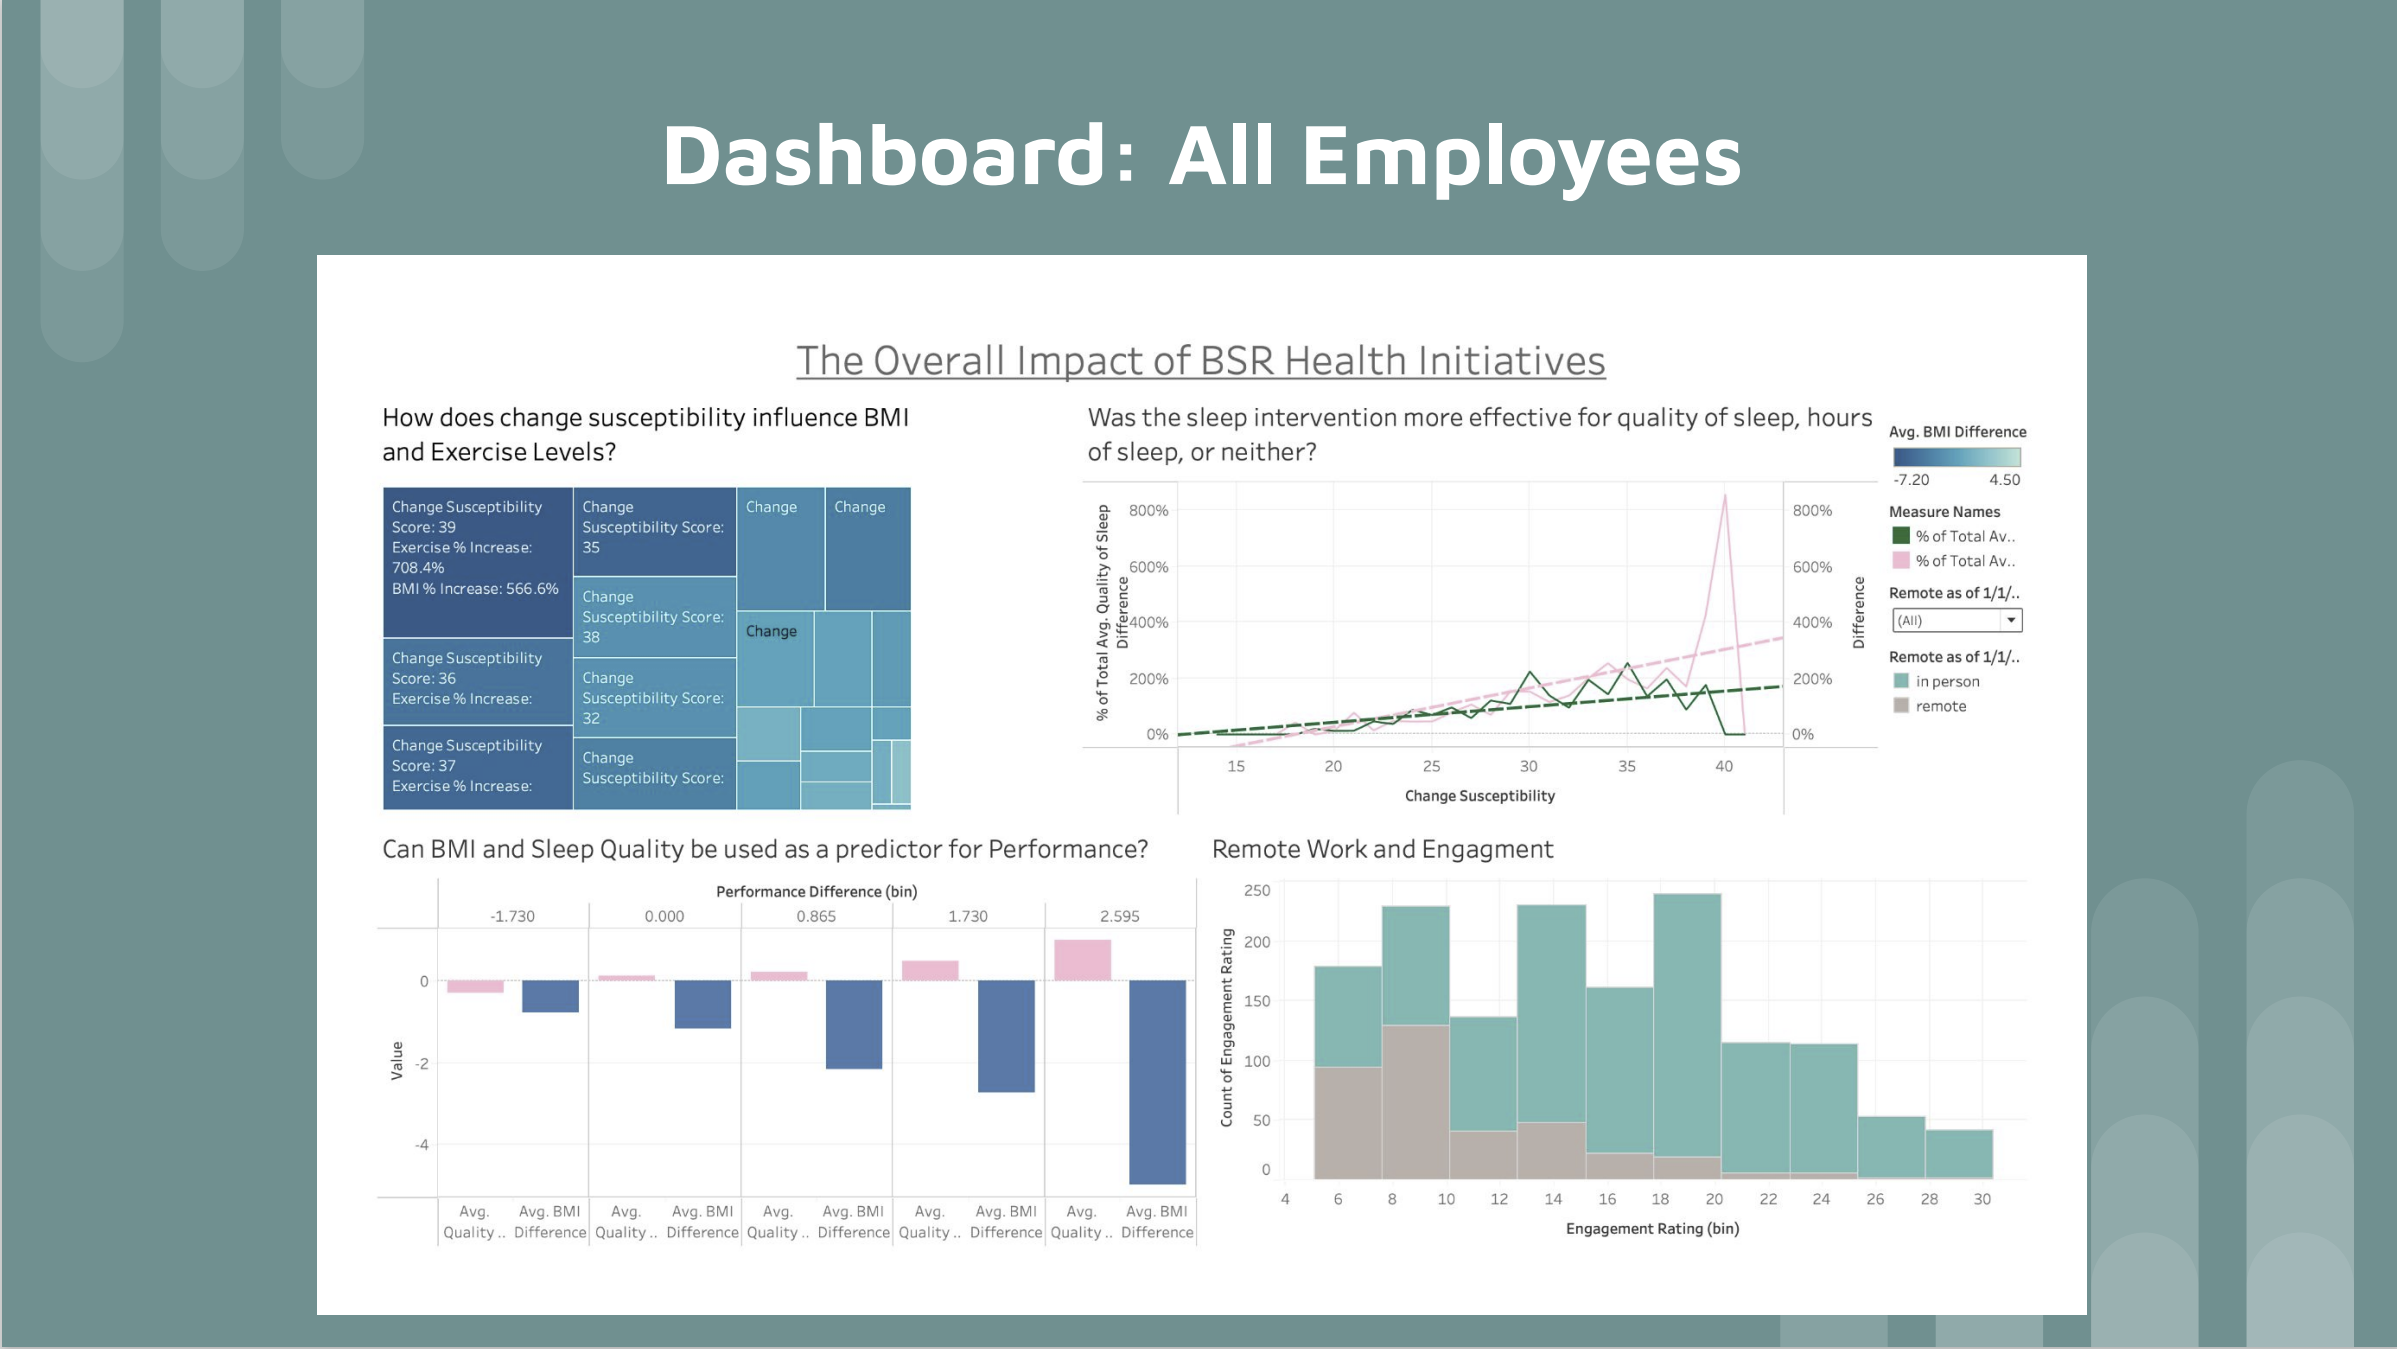

This screenshot's page, from the dashboard's own definition file:
{"tool":"tableau","page":{"name":"Dashboard 1","canvas":[1366,768],"ordinal":0},"visuals":[{"type":"text","box":[8,8,1350,49.8]},{"type":"worksheet","title":"How does change susceptibility influence BMI and Exercise Levels?","mark":"Automatic","box":[8,57.8,573.9,351.1]},{"type":"worksheet","title":"Was the sleep intervention more effective for quality of sleep, hours of sleep, or neither?","mark":"Automatic","rows":["Calculation_79938950658379794","Calculation_79938950658486291"],"cols":["Calculation_79938950593138696"],"box":[581.9,57.8,656.1,351.1]},{"type":"legend","title":"Was the sleep intervention more effective for quality of sleep, hours of sleep, or neither?","param":"[federated.1tppojm0b5z7s51frijm91yaf7cj].[none:IN/Out Exercise Intervention (cop","box":[1238,57.8,120,22]},{"type":"legend","title":"How does change susceptibility influence BMI and Exercise Levels?","param":"[federated.1tppojm0b5z7s51frijm91yaf7cj].[avg:Calculation_79938950515359744:qk]","box":[1238,79.8,120,65]},{"type":"legend","title":"Was the sleep intervention more effective for quality of sleep, hours of sleep, or neither?","param":"[federated.1tppojm0b5z7s51frijm91yaf7cj].[:Measure Names]","box":[1238,144.8,120,66]},{"type":"filter","title":"How does change susceptibility influence BMI and Exercise Levels?","param":"[federated.1tppojm0b5z7s51frijm91yaf7cj].[none:Remote as of 1/1/2022:nk]","box":[1238,210.8,120,52]},{"type":"legend","title":"How engaged are remote workers?","param":"[federated.1tppojm0b5z7s51frijm91yaf7cj].[none:Remote as of 1/1/2022:nk]","box":[1238,262.8,120,66]},{"type":"worksheet","title":"Can BMI and Sleep Quality be used as a predictor for Performance?","mark":"Automatic","cols":["Performance Difference (bin)"],"box":[8,408.9,675,351.1]},{"type":"worksheet","title":"How engaged are remote workers?","mark":"Automatic","rows":["Calculation_4582271940988325890"],"cols":["Engagement Rating (bin)"],"box":[683,408.9,675,351.1]}]}

Visuals, with their boxes in screenshot pixels (x1, y1, x2, y2), scaled from the page's 1366x768 canvas onto the 2397x1349 screenshot:
text: x1=14, y1=14, x2=2383, y2=102
"How does change susceptibility influence BMI and Exercise Levels?" worksheet: x1=14, y1=102, x2=1021, y2=718
"Was the sleep intervention more effective for quality of sleep, hours of sleep, or neither?" worksheet: x1=1021, y1=102, x2=2172, y2=718
"Was the sleep intervention more effective for quality of sleep, hours of sleep, or neither?" legend: x1=2172, y1=102, x2=2383, y2=140
"How does change susceptibility influence BMI and Exercise Levels?" legend: x1=2172, y1=140, x2=2383, y2=254
"Was the sleep intervention more effective for quality of sleep, hours of sleep, or neither?" legend: x1=2172, y1=254, x2=2383, y2=370
"How does change susceptibility influence BMI and Exercise Levels?" filter: x1=2172, y1=370, x2=2383, y2=462
"How engaged are remote workers?" legend: x1=2172, y1=462, x2=2383, y2=578
"Can BMI and Sleep Quality be used as a predictor for Performance?" worksheet: x1=14, y1=718, x2=1198, y2=1335
"How engaged are remote workers?" worksheet: x1=1198, y1=718, x2=2383, y2=1335
